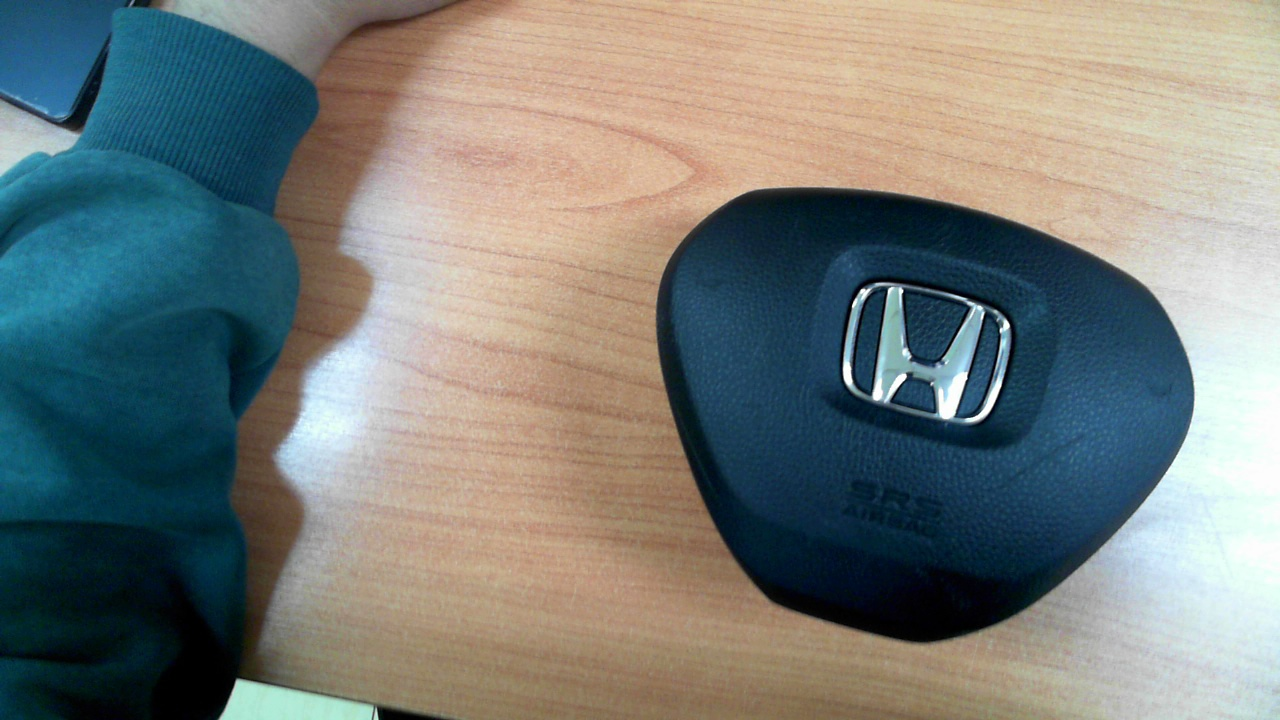Airbag: (654, 187, 1195, 643)
Honda: (840, 282, 1012, 423)
